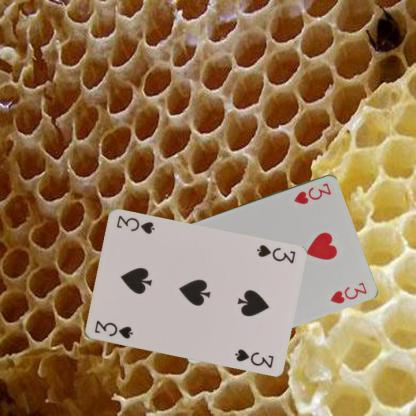3h: (291, 180, 333, 205)
3s: (254, 242, 296, 265), (91, 318, 134, 340)
